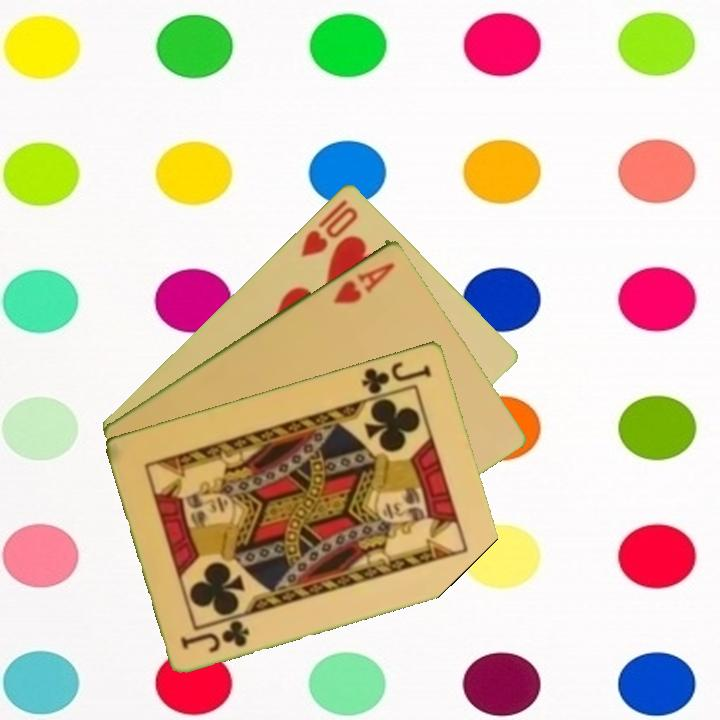10h: (297, 195, 362, 260)
Ah: (329, 258, 398, 307)
Jc: (358, 357, 435, 397), (177, 616, 253, 655)
